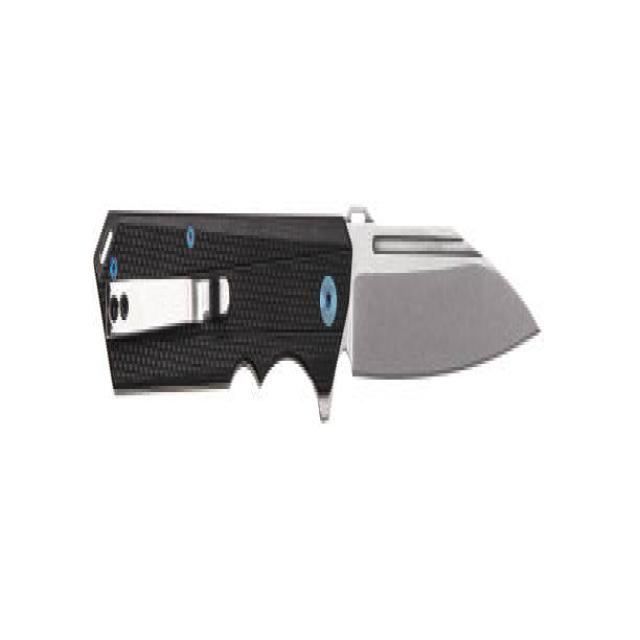knife: (91, 161, 547, 449)
